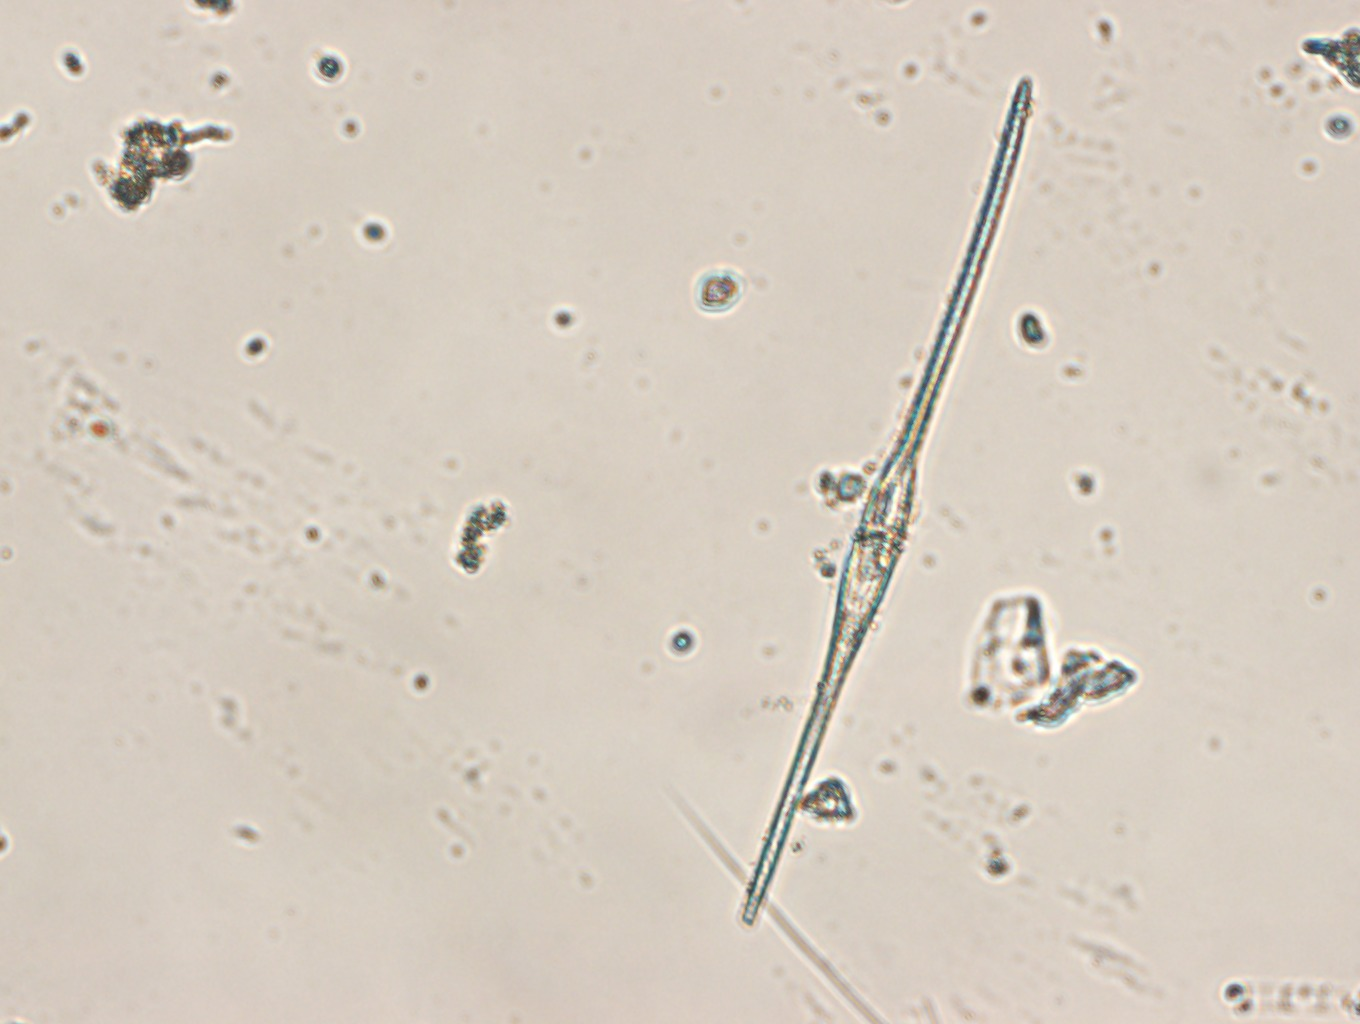ceratium fusus: (739, 73, 1032, 925)
